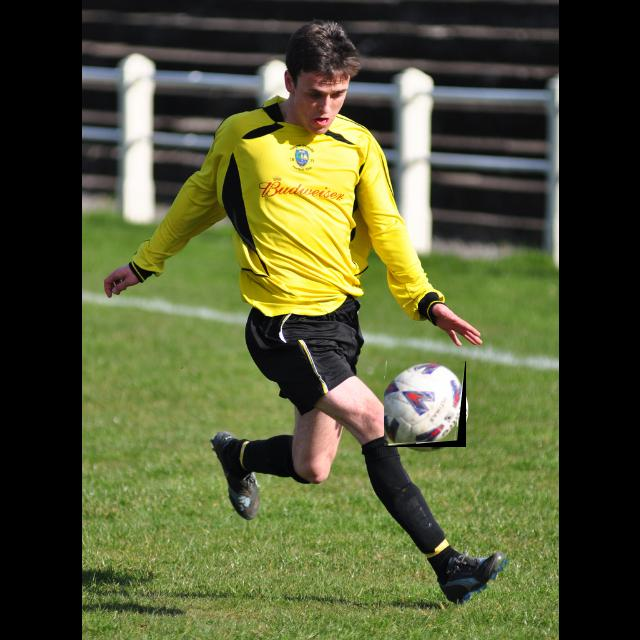Football: (384, 361, 466, 447)
